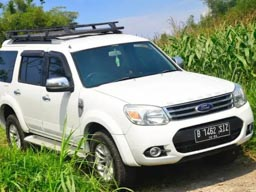plat: (196, 124, 228, 141)
